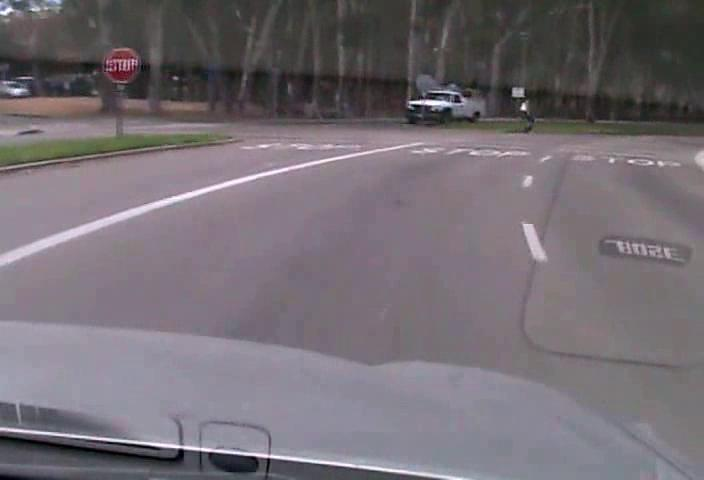stop: (103, 46, 140, 83)
